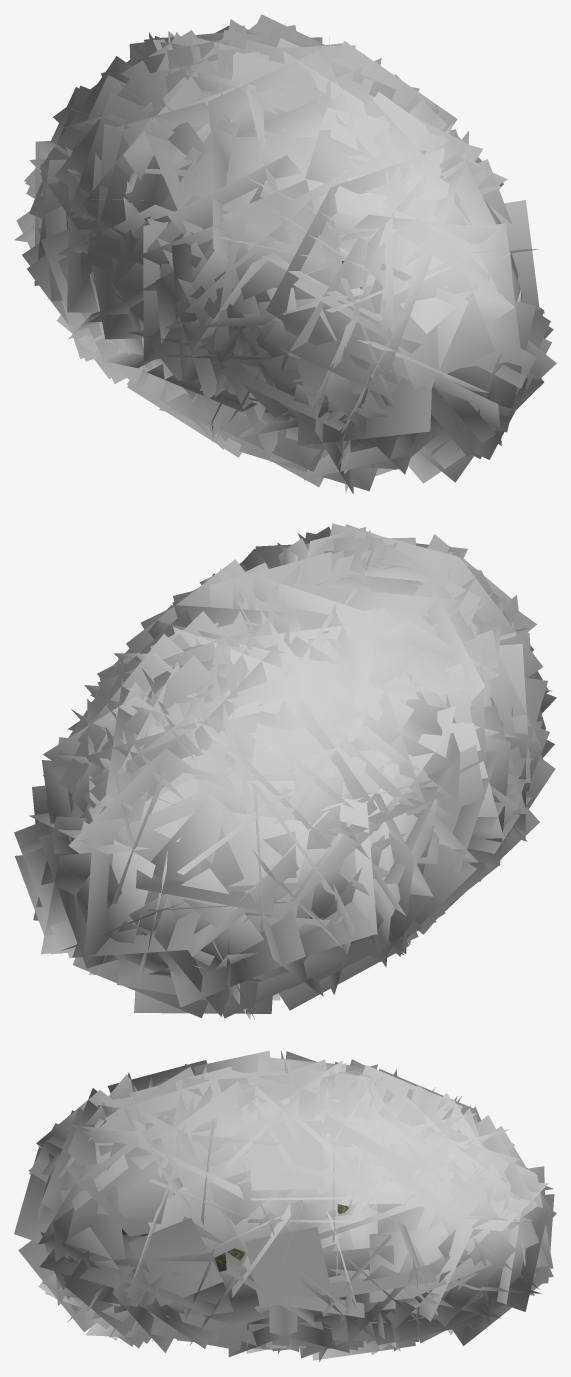
Rendered from SM_LeaveBush_01.fbx.
The picture shows the model from 3 angles, top to bottom: view 1: azimuth 30°, elevation 25°; view 2: azimuth 150°, elevation 25°; view 3: azimuth 270°, elevation 25°; orthographic projection. The views are drawn at different scales.
Parts seen in each view (by area): view 1: SM_LeaveBush_01_Leave; view 2: SM_LeaveBush_01_Leave; view 3: SM_LeaveBush_01_Leave, SM_LeaveBush_01.
Part boxes in pixels (x1,y1,x2,y2): SM_LeaveBush_01_Leave: [14, 14, 556, 493]; SM_LeaveBush_01_Leave: [14, 523, 556, 1019]; SM_LeaveBush_01_Leave: [14, 1050, 556, 1361]; SM_LeaveBush_01: [122, 1194, 348, 1271].
Bounding box in the file's own units: 158 × 147 × 264.
